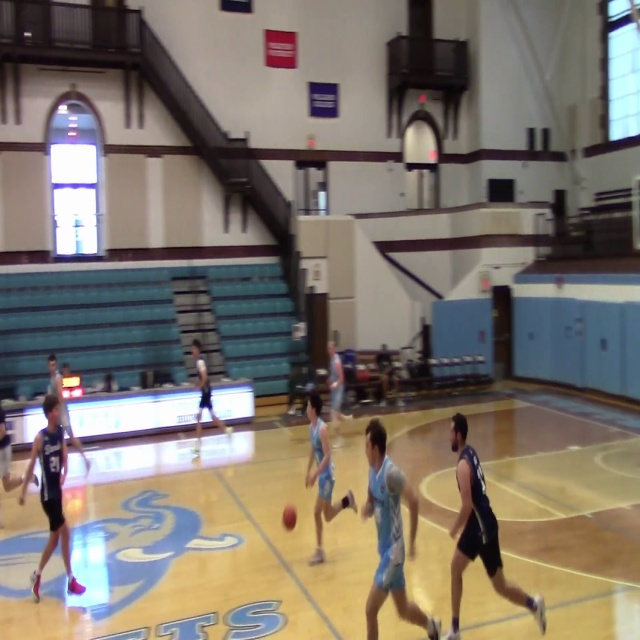Basketball: (385, 467, 405, 495), (282, 504, 297, 530)
